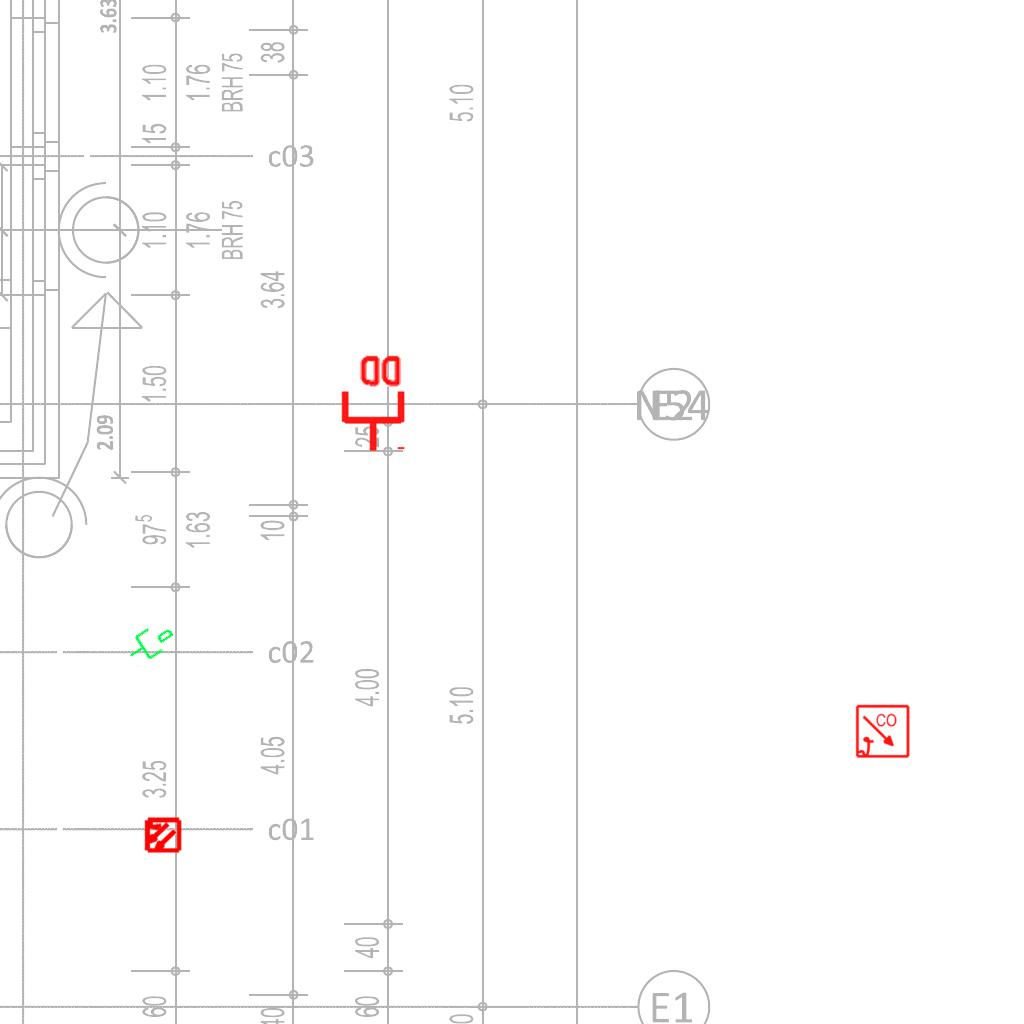Datenanschluss_einfach: (119, 614, 181, 670)
Datenanschluss_zweifach: (337, 351, 406, 454)
OT_Multisensormelder_(Kombination_RMO_WMD): (134, 807, 190, 863)
ROA_Rauchmelder_optisch_mit_Signalgeber_(Sockelsirene): (855, 704, 911, 760)
